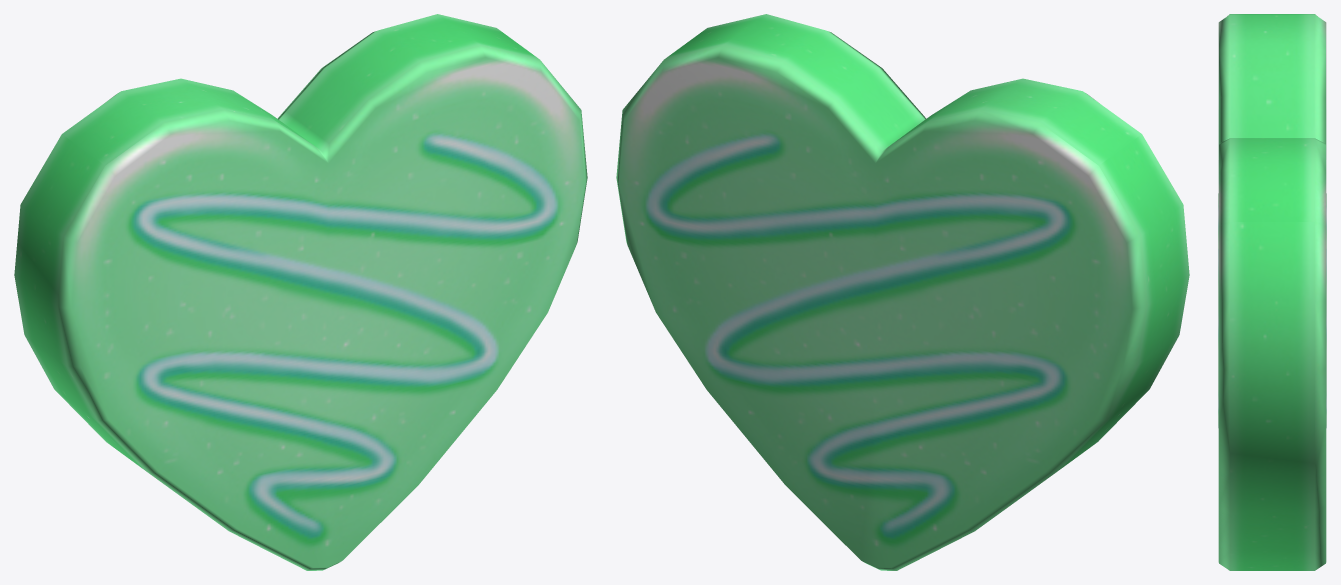
The model's file is HealthHeart.fbx.
3 views of the same model, side by side, from view 1: azimuth 30°, elevation 25°; view 2: azimuth 150°, elevation 25°; view 3: azimuth 270°, elevation 25° (orthographic). The views are drawn at different scales.
Visible parts, largest first — view 1: Health; view 2: Health; view 3: Health.
Boxes of the visible parts, left/top/right/bottom form: Health: left=14, top=14, right=587, bottom=570; Health: left=616, top=14, right=1189, bottom=570; Health: left=1218, top=14, right=1326, bottom=570.
Size of the model in its own units: 5.45 by 4.78 by 0.9821.
